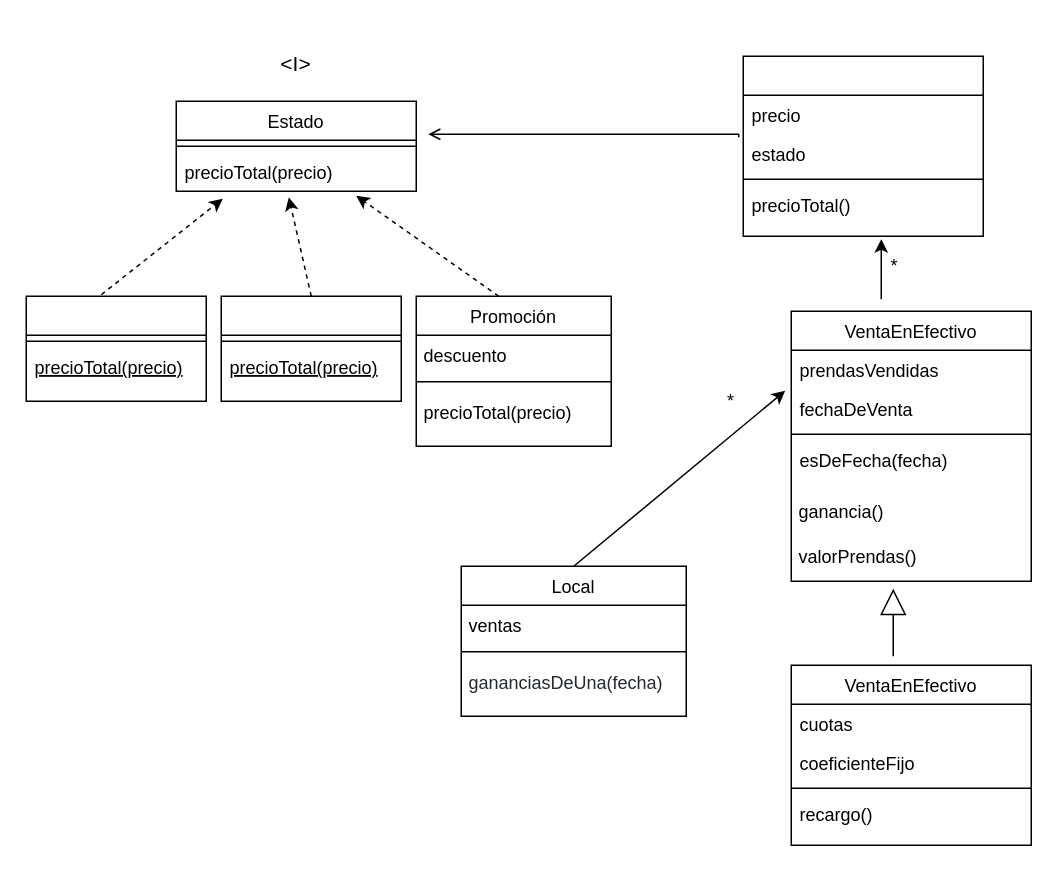
Some shapes in this 1058 by 875 pixel diagram are drawn without their labels. The box of each missing label's shape, as (x1, y1, x2, y2) in pixels:
Liquidación: (220, 295, 401, 401)
Nueva: (25, 295, 206, 401)
Prenda: (742, 55, 983, 236)
